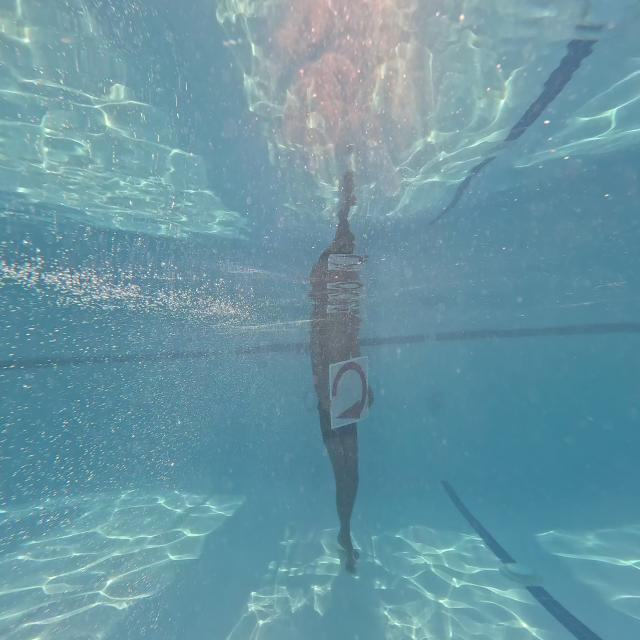red_side: (330, 362, 370, 430)
